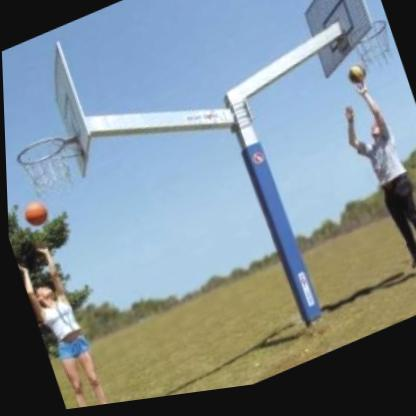basketball: (22, 196, 49, 230), (342, 67, 369, 97)
